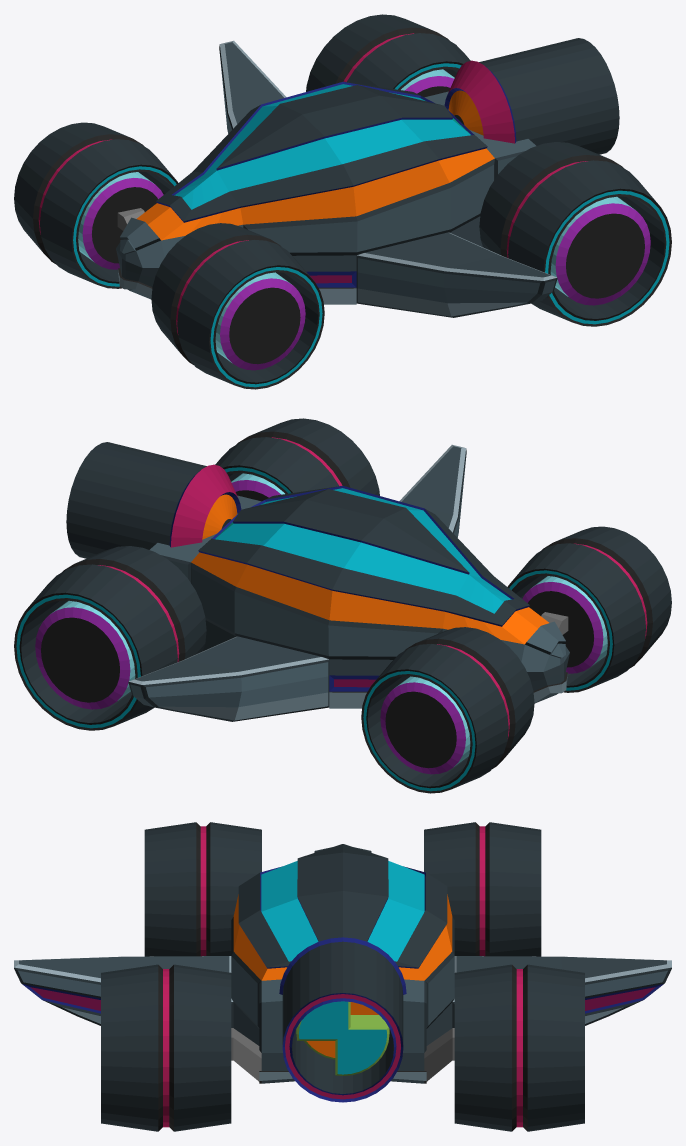
The model's file is FlightRunner.fbx.
The picture shows the model from 3 angles, top to bottom: view 1: azimuth 30°, elevation 25°; view 2: azimuth 150°, elevation 25°; view 3: azimuth 270°, elevation 25°; orthographic projection.
Visible parts, largest first — view 1: CarBody, WheelRearLeft, WheelFrontLeft, Booster, WheelFrontRight, WheelRearRight, RimWheelRearLeft, RimWheelFrontLeft, RimWheelFrontRight, RimWheelRearRight; view 2: CarBody, WheelRearRight, WheelFrontRight, Booster, WheelFrontLeft, WheelRearLeft, RimWheelRearRight, RimWheelFrontRight, RimWheelFrontLeft, RimWheelRearLeft; view 3: CarBody, WheelRearLeft, WheelRearRight, WheelFrontLeft, WheelFrontRight, Booster, BoosterBlade2, BoosterBlade1.
Boxes of the visible parts, bbox=[...] form: CarBody: bbox=[116, 40, 557, 317]; WheelRearLeft: bbox=[479, 142, 671, 326]; WheelFrontLeft: bbox=[151, 223, 324, 389]; Booster: bbox=[444, 38, 619, 154]; WheelFrontRight: bbox=[14, 122, 178, 288]; WheelRearRight: bbox=[306, 14, 470, 91]; RimWheelRearLeft: bbox=[550, 196, 650, 305]; RimWheelFrontLeft: bbox=[215, 272, 305, 370]; RimWheelFrontRight: bbox=[78, 172, 163, 269]; RimWheelRearRight: bbox=[401, 69, 454, 97]; CarBody: bbox=[128, 444, 569, 721]; WheelRearRight: bbox=[14, 546, 206, 730]; WheelFrontRight: bbox=[361, 627, 534, 793]; Booster: bbox=[66, 442, 241, 558]; WheelFrontLeft: bbox=[507, 526, 671, 692]; WheelRearLeft: bbox=[215, 418, 379, 495]; RimWheelRearRight: bbox=[35, 600, 135, 709]; RimWheelFrontRight: bbox=[380, 676, 470, 774]; RimWheelFrontLeft: bbox=[522, 576, 607, 673]; RimWheelRearLeft: bbox=[231, 473, 284, 501]; CarBody: bbox=[14, 844, 671, 1083]; WheelRearLeft: bbox=[101, 964, 231, 1131]; WheelRearRight: bbox=[454, 964, 584, 1131]; WheelFrontLeft: bbox=[144, 822, 261, 956]; WheelFrontRight: bbox=[424, 822, 541, 956]; Booster: bbox=[279, 937, 406, 1102]; BoosterBlade2: bbox=[296, 1001, 389, 1075]; BoosterBlade1: bbox=[304, 1002, 378, 1059].
Bounding box in the file's own units: 611 × 219 × 707.
